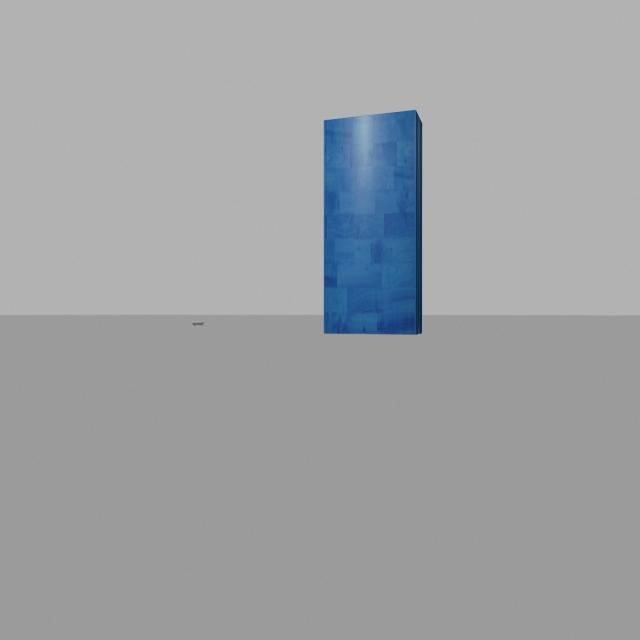bowl: (186, 313, 214, 333)
shelf: (299, 99, 435, 344)
